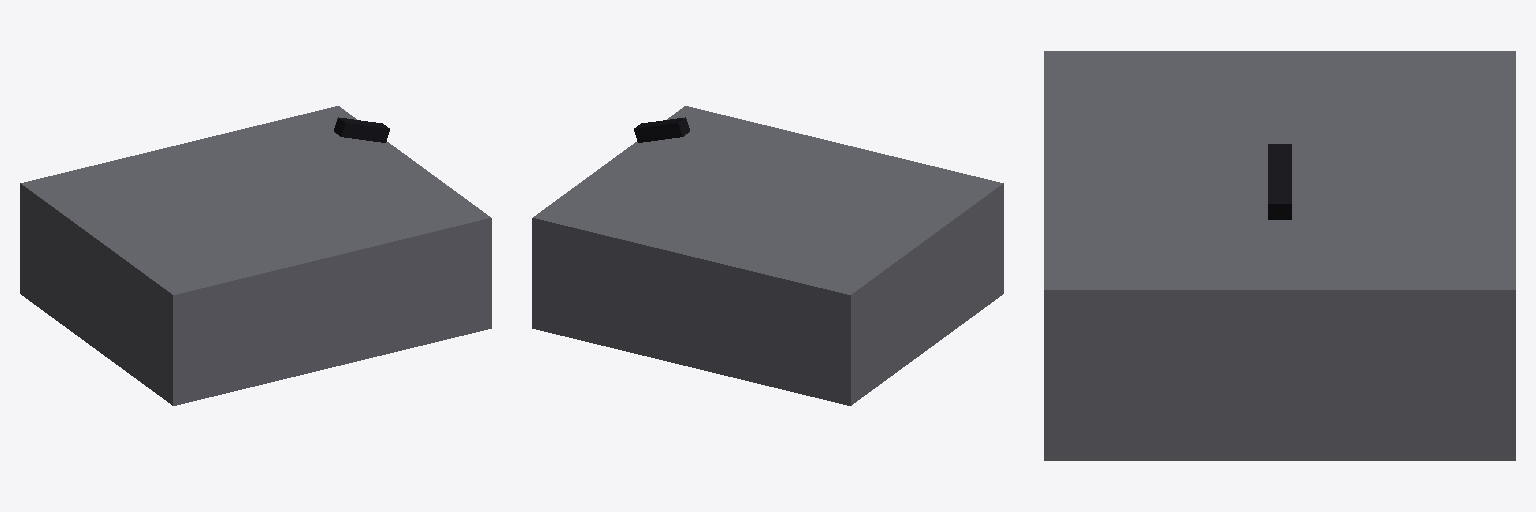
URDF robot description (aida_placeholder):
<?xml version="1.0"?>
<!-- Placeholder robot model for RViz. Replace with the real URDF/xacro later. -->
<robot name="aida_placeholder">
  <material name="body_gray">
    <color rgba="0.45 0.45 0.48 1"/>
  </material>
  <material name="camera_black">
    <color rgba="0.12 0.12 0.14 1"/>
  </material>

  <link name="base_footprint"/>

  <joint name="base_joint" type="fixed">
    <parent link="base_footprint"/>
    <child link="base_link"/>
    <origin xyz="0 0 0.10" rpy="0 0 0"/>
  </joint>

  <link name="base_link">
    <visual>
      <origin xyz="0 0 0" rpy="0 0 0"/>
      <geometry>
        <box size="0.60 0.50 0.20"/>
      </geometry>
      <material name="body_gray"/>
    </visual>
  </link>

  <!-- Approximate camera pose; refine when the real model lands. -->
  <joint name="camera_joint" type="fixed">
    <parent link="base_link"/>
    <child link="camera_link"/>
    <origin xyz="0.20 0 0.18" rpy="0 0.35 0"/>
  </joint>

  <link name="camera_link">
    <visual>
      <origin xyz="0 0 0" rpy="0 0 0"/>
      <geometry>
        <box size="0.09 0.025 0.025"/>
      </geometry>
      <material name="camera_black"/>
    </visual>
  </link>
</robot>

--- Render facts (derived) ---
3 views of the same robot in one strip: view 1: azimuth 30°, elevation 25°; view 2: azimuth 150°, elevation 25°; view 3: azimuth 270°, elevation 25° (orthographic).
Robot: aida_placeholder — 3 links, 2 joints (2 fixed); root link base_footprint; default pose: all joints at 0.
Links seen in each view (by area): view 1: base_link, camera_link; view 2: base_link, camera_link; view 3: base_link, camera_link.
Boxes of the visible links, x1,y1,x2,y2 form: base_link: (20, 106, 491, 405); camera_link: (334, 117, 389, 142); base_link: (532, 106, 1003, 405); camera_link: (634, 117, 689, 142); base_link: (1044, 51, 1515, 460); camera_link: (1268, 144, 1291, 219).
Size in the robot's own frame: 0.6 by 0.5 by 0.3072 metres.
Geometry: primitives only (box / cylinder / sphere), no mesh files.
